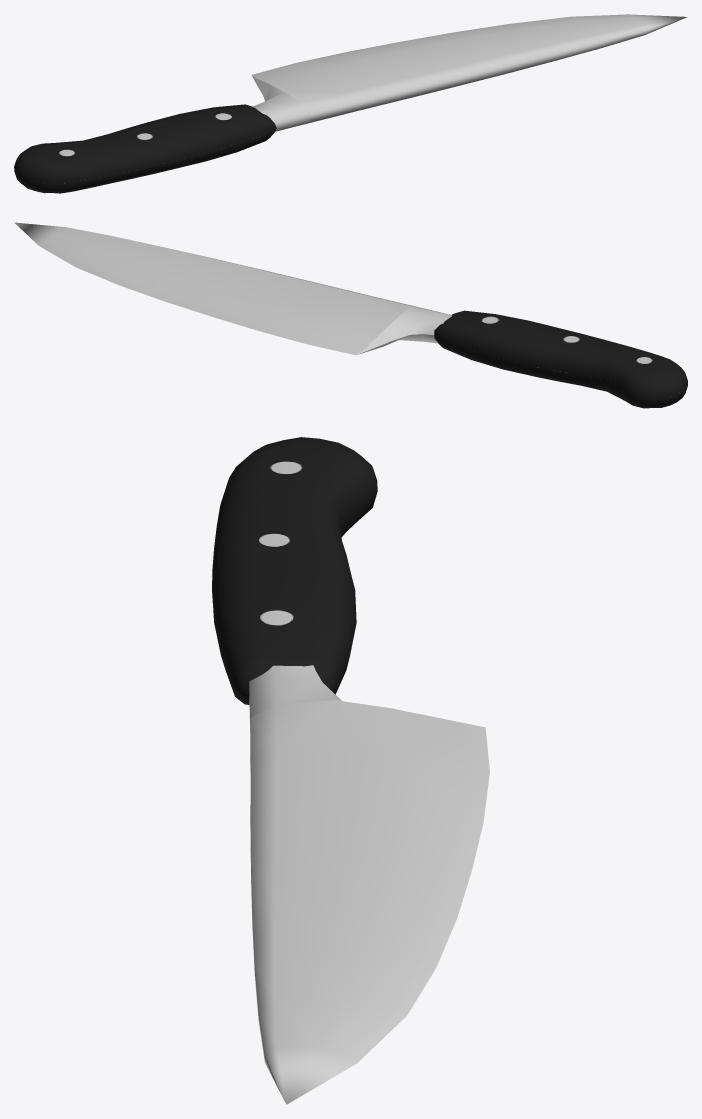
Rendered from Knife.obj.
3 views of the same model, one above another, from view 1: azimuth 30°, elevation 25°; view 2: azimuth 150°, elevation 25°; view 3: azimuth 270°, elevation 25° (orthographic). The views are drawn at different scales.
Visible parts, largest first — view 1: Knife_BladeSG, Knife_HandleSG; view 2: Knife_BladeSG, Knife_HandleSG; view 3: Knife_BladeSG, Knife_HandleSG.
Part boxes in pixels (box(x1,y1,x2,y2)): Knife_BladeSG: box(251, 14, 687, 131); Knife_HandleSG: box(14, 104, 276, 193); Knife_BladeSG: box(14, 222, 452, 355); Knife_HandleSG: box(434, 310, 687, 408); Knife_BladeSG: box(249, 665, 489, 1104); Knife_HandleSG: box(212, 437, 377, 704).
Bounding box in the file's own units: 3.01 × 0.1424 × 0.5461.
Materials: 2 (2 with a texture image).
